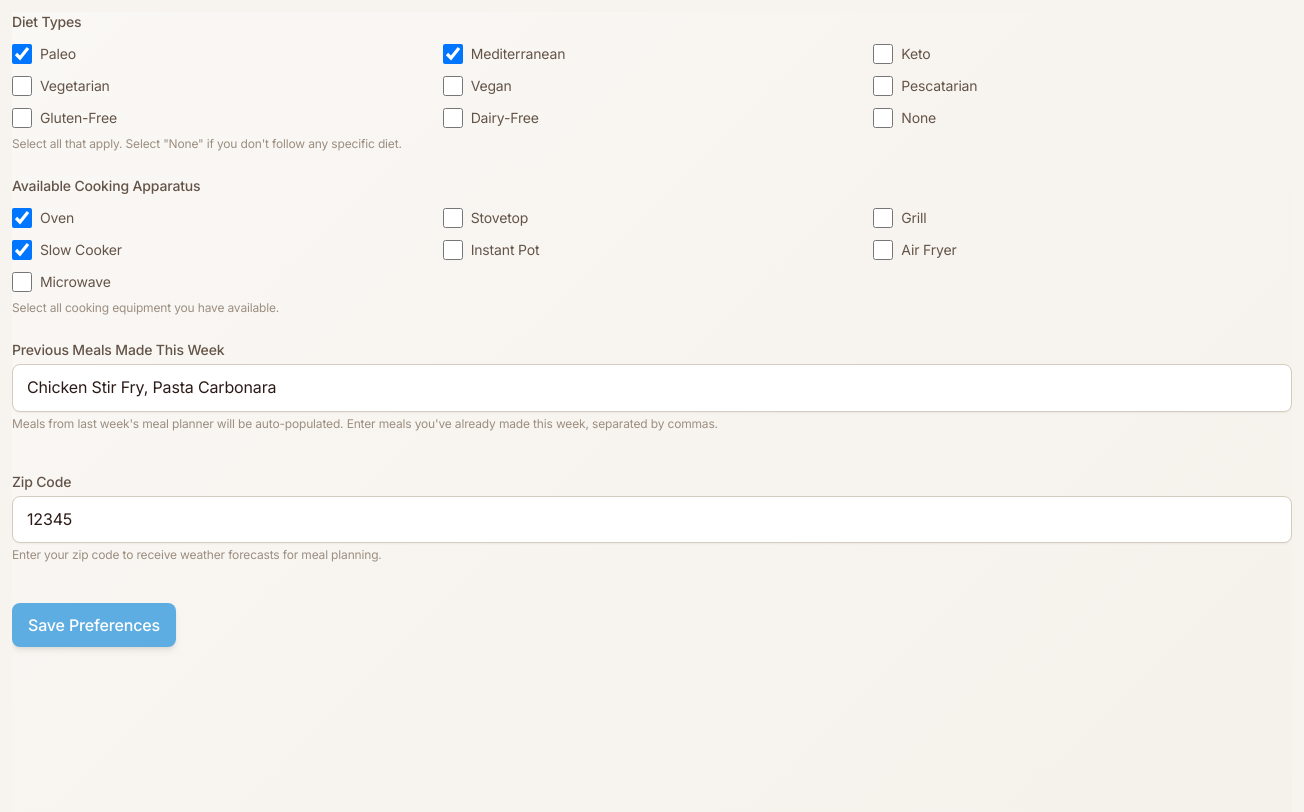
Test: PreferencesForm › handles "none" diet type clearing others
Step 1. Click the checkbox labelled "None" → (883, 118), box [873,108,893,128]
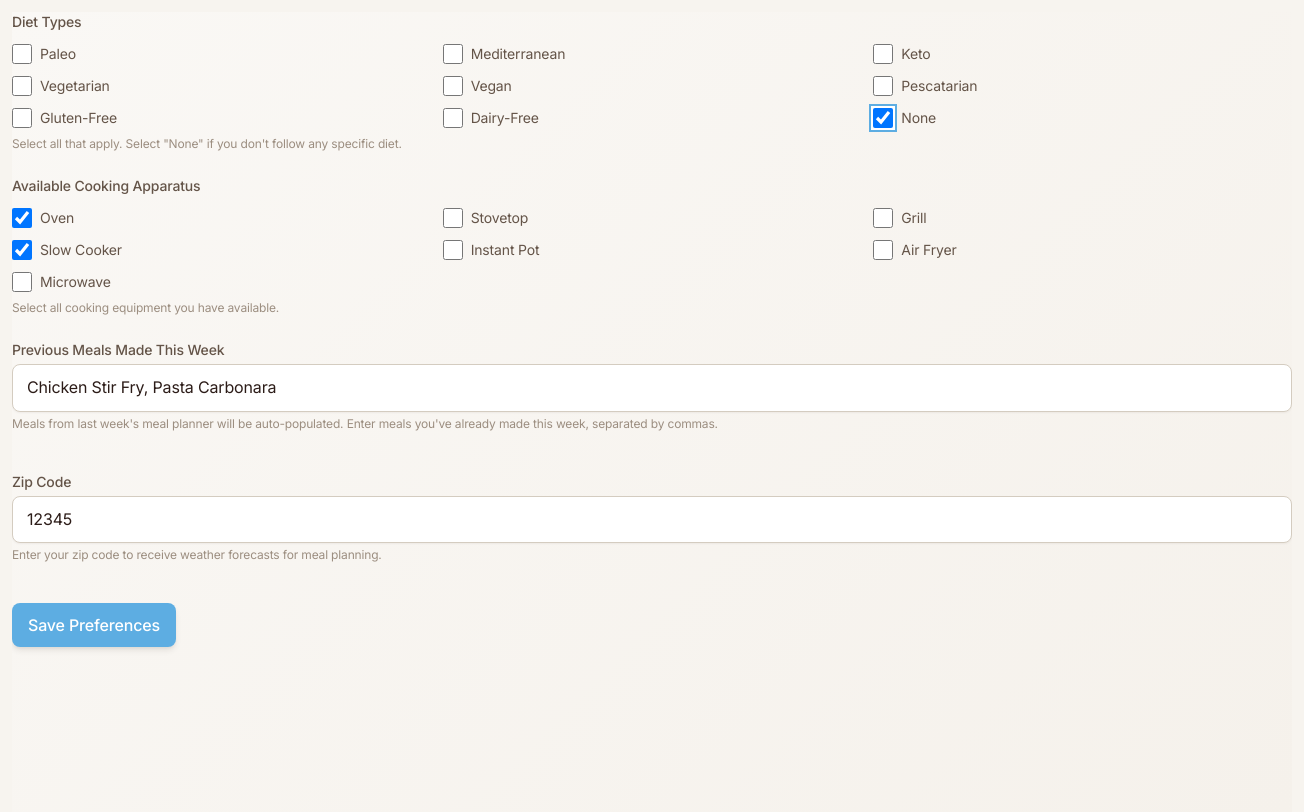
Expected: the checkbox labelled "None" is checked, [873,108,893,128]
Expected: the checkbox labelled "Paleo" is not checked, [12,44,32,64]
